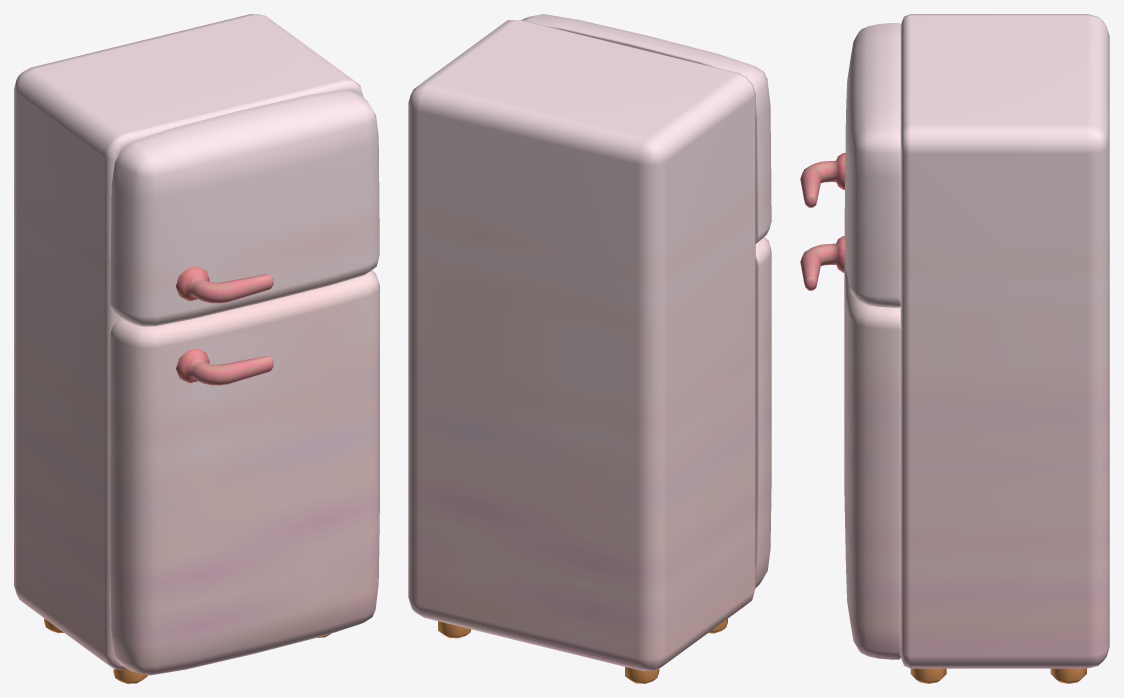
The model's file is fridge-01.glb.
The picture shows the model from 3 angles, left to right: view 1: azimuth 30°, elevation 25°; view 2: azimuth 150°, elevation 25°; view 3: azimuth 270°, elevation 25°; orthographic projection.
Visible parts, largest first — view 1: Fridge_01; view 2: Fridge_01; view 3: Fridge_01.
Part boxes in pixels (left/top/right/bottom): Fridge_01: left=14, top=14, right=379, bottom=683; Fridge_01: left=408, top=14, right=771, bottom=683; Fridge_01: left=800, top=14, right=1109, bottom=683.
Size of the model in its own units: 0.68 by 1.4 by 0.6985.
2 materials, 2 textured.
